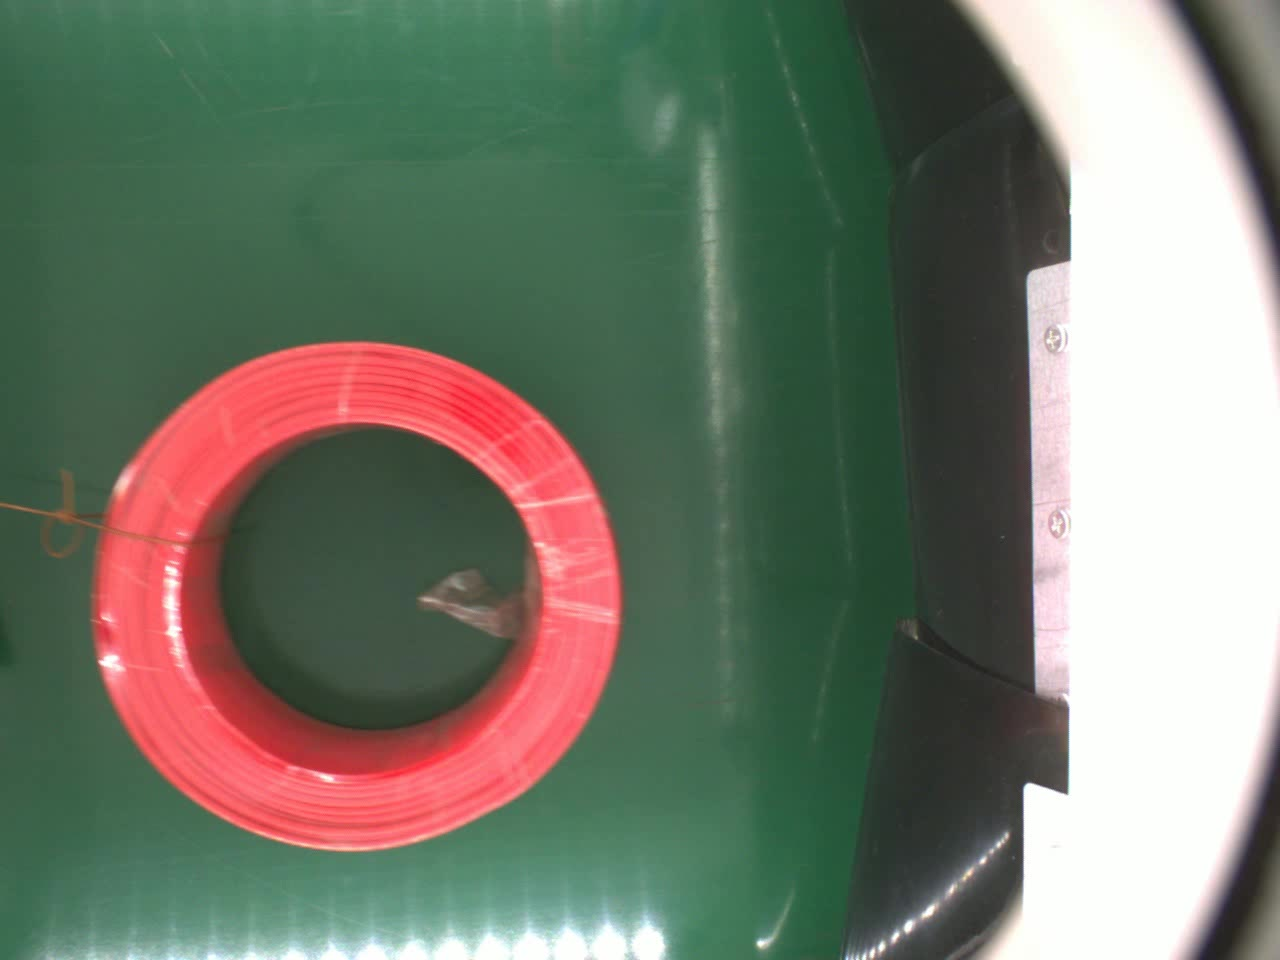red: (95, 335, 625, 847)
